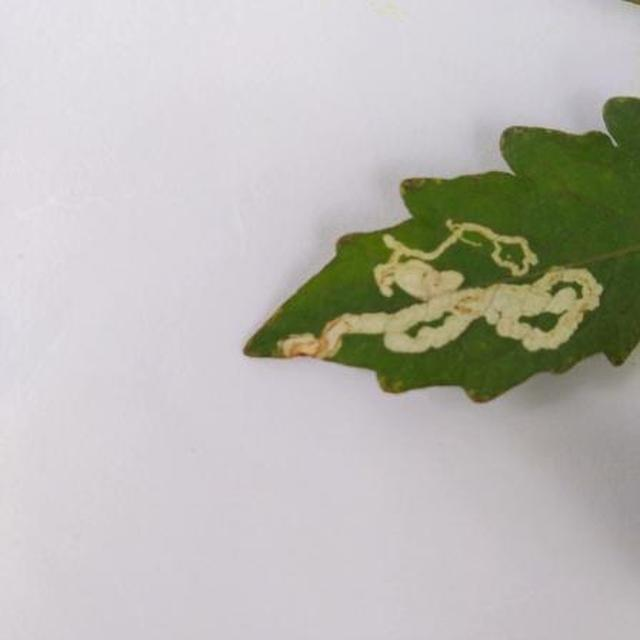Leaf Miner: (345, 134, 640, 580)
